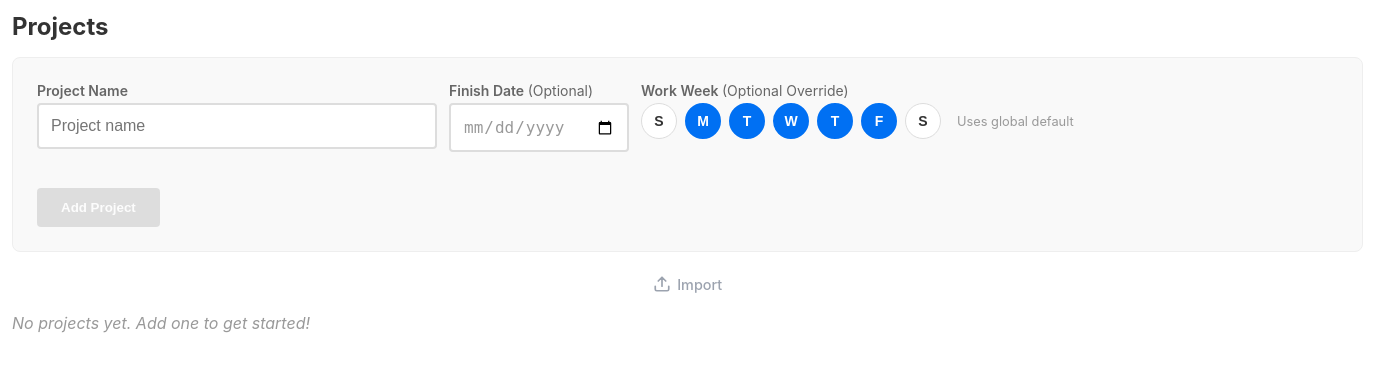
Test: ProjectsTab › add project form › adds project when name is entered and button is clicked
In the field with placeholder "Project Name": (237,126) [37, 103, 437, 149], type "New Project"
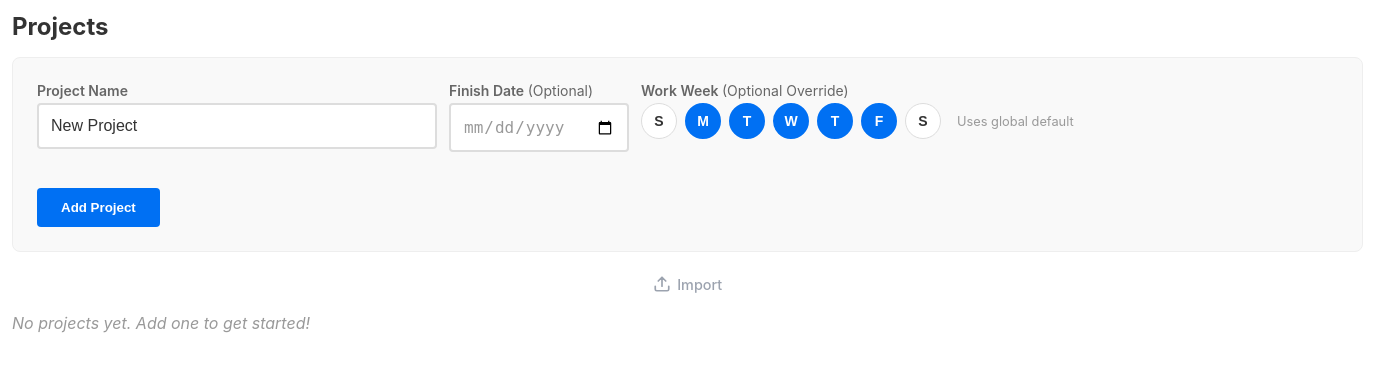
Click the button "Add Project": (98,208) [37, 188, 160, 227]
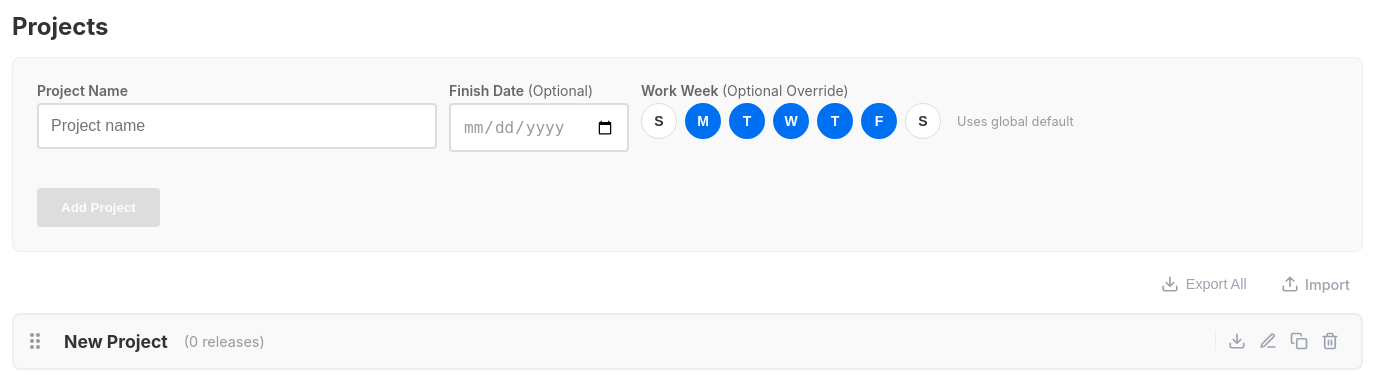
Expected: the text "New Project" is shown, [64, 331, 168, 352]
